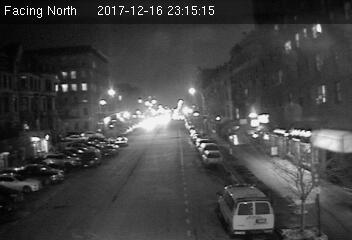car: (200, 149, 223, 164)
police: (216, 183, 277, 237)
